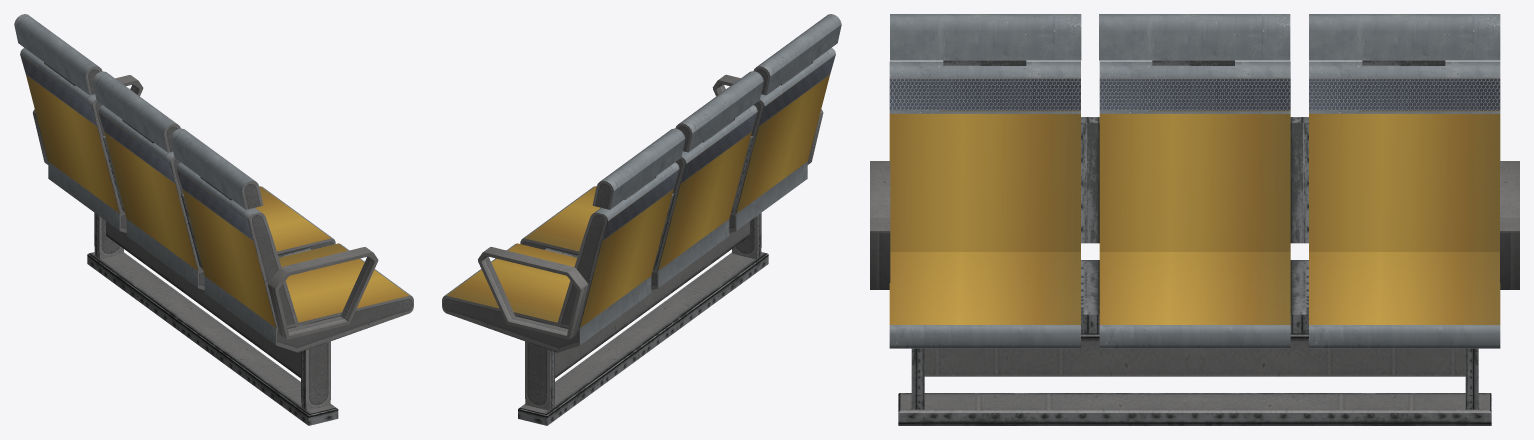
File: Bench01b.FBX
3 views of the same model, side by side, from view 1: azimuth 30°, elevation 25°; view 2: azimuth 150°, elevation 25°; view 3: azimuth 270°, elevation 25° (orthographic). The views are drawn at different scales.
Visible parts, largest first — view 1: Bench01b; view 2: Bench01b; view 3: Bench01b.
Part boxes in pixels (left/top/right/bottom): Bench01b: left=14, top=14, right=413, bottom=425; Bench01b: left=442, top=14, right=841, bottom=425; Bench01b: left=870, top=14, right=1519, bottom=425.
Bounding box in the file's own units: 926 × 1349 × 2263.
